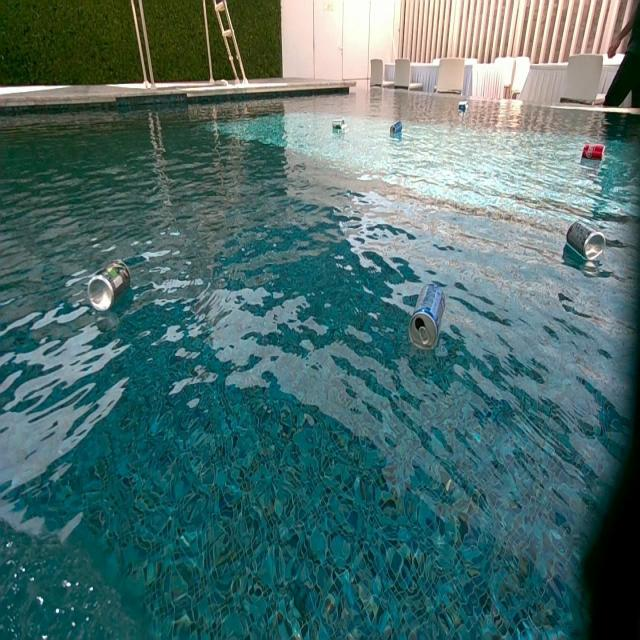Cans: (409, 280, 449, 352), (88, 262, 130, 312), (582, 222, 608, 260), (583, 144, 604, 160), (333, 118, 348, 133), (390, 120, 403, 134), (458, 102, 467, 112)
